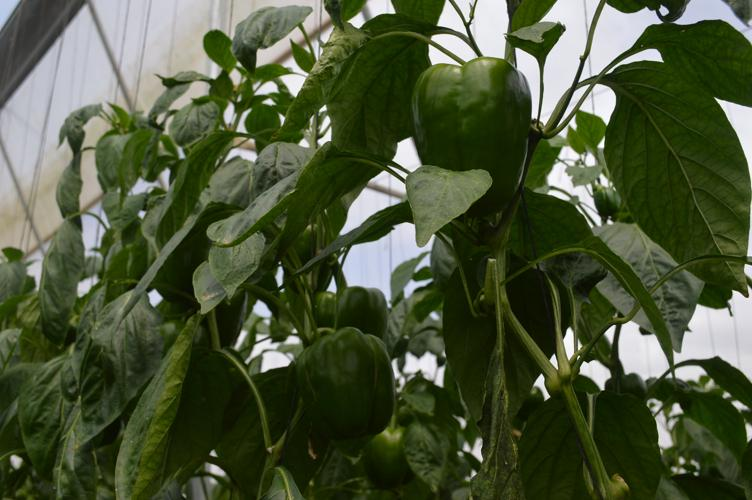BellPepper: (415, 60, 529, 212), (295, 331, 398, 436), (332, 288, 389, 339), (366, 428, 413, 489), (302, 288, 331, 328)
